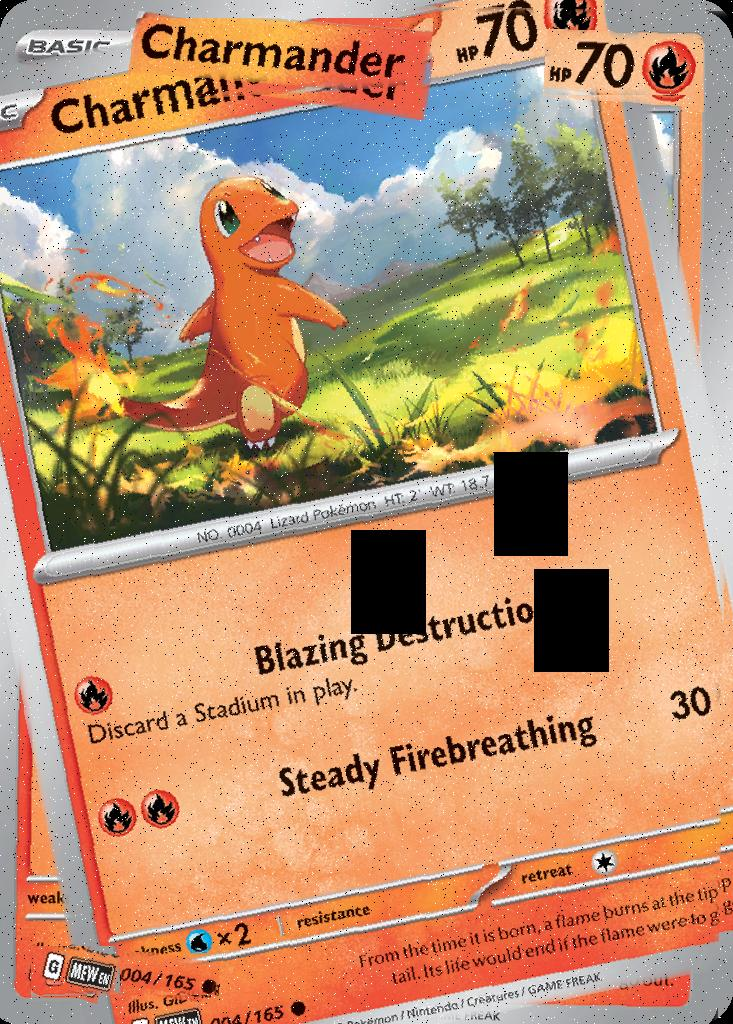card: (0, 0, 733, 1024)
hp: (545, 29, 705, 95)
name: (131, 19, 434, 104)
set num: (122, 953, 221, 996)
set symbol: (31, 947, 120, 998)
